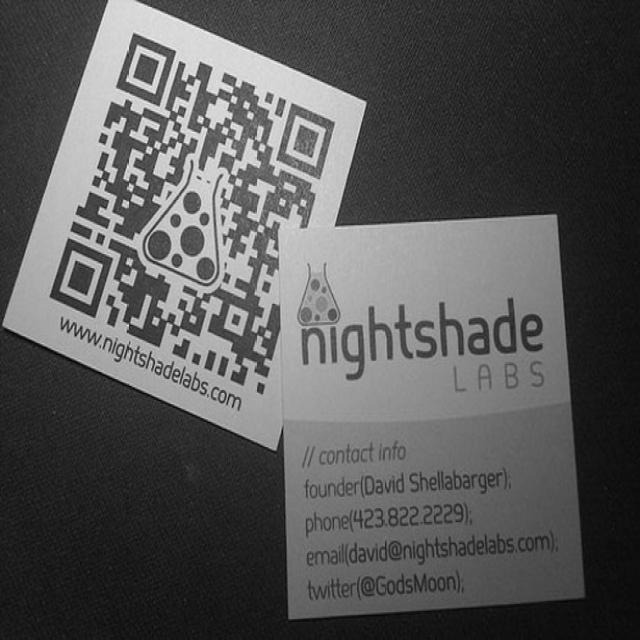QR-codes: (52, 30, 337, 411)
